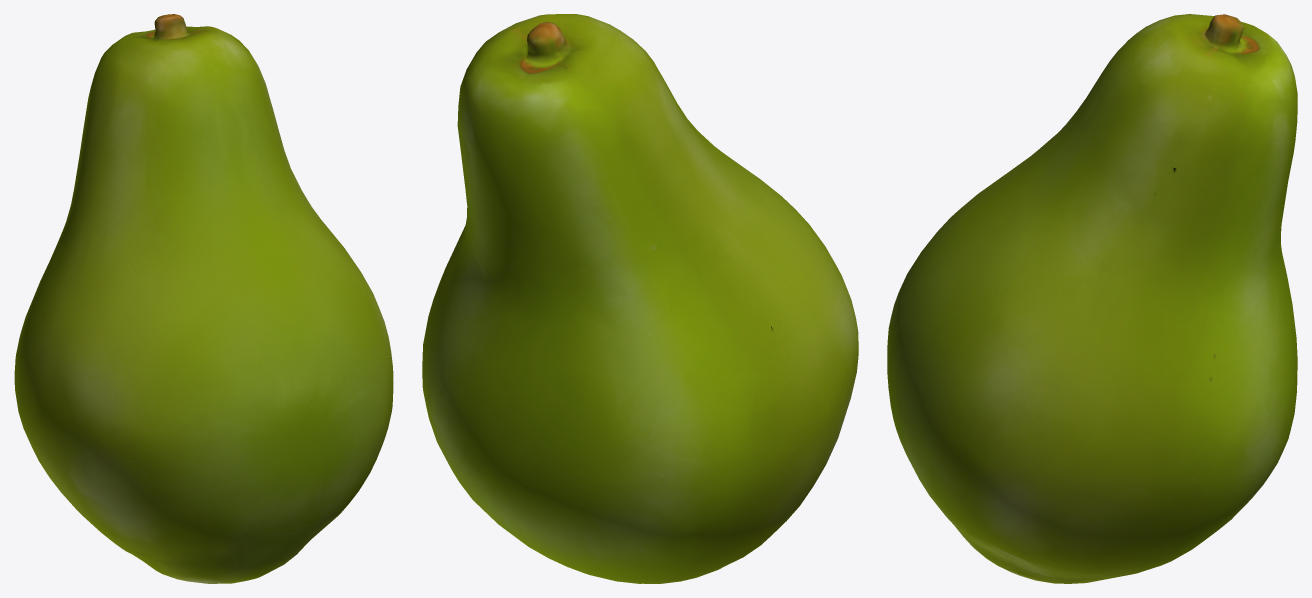
3 views of the same model, side by side, from view 1: azimuth 30°, elevation 25°; view 2: azimuth 150°, elevation 25°; view 3: azimuth 270°, elevation 25° (orthographic). The views are drawn at different scales.
Visible parts, largest first — view 1: textured.029; view 2: textured.029; view 3: textured.029.
Boxes of the visible parts, <box> form: textured.029: <box>14,14,393,583</box>; textured.029: <box>422,14,858,583</box>; textured.029: <box>887,14,1297,583</box>.
Bounding box in the file's own units: 0.0665 × 0.1005 × 0.0656.
1 material, 1 textured.
